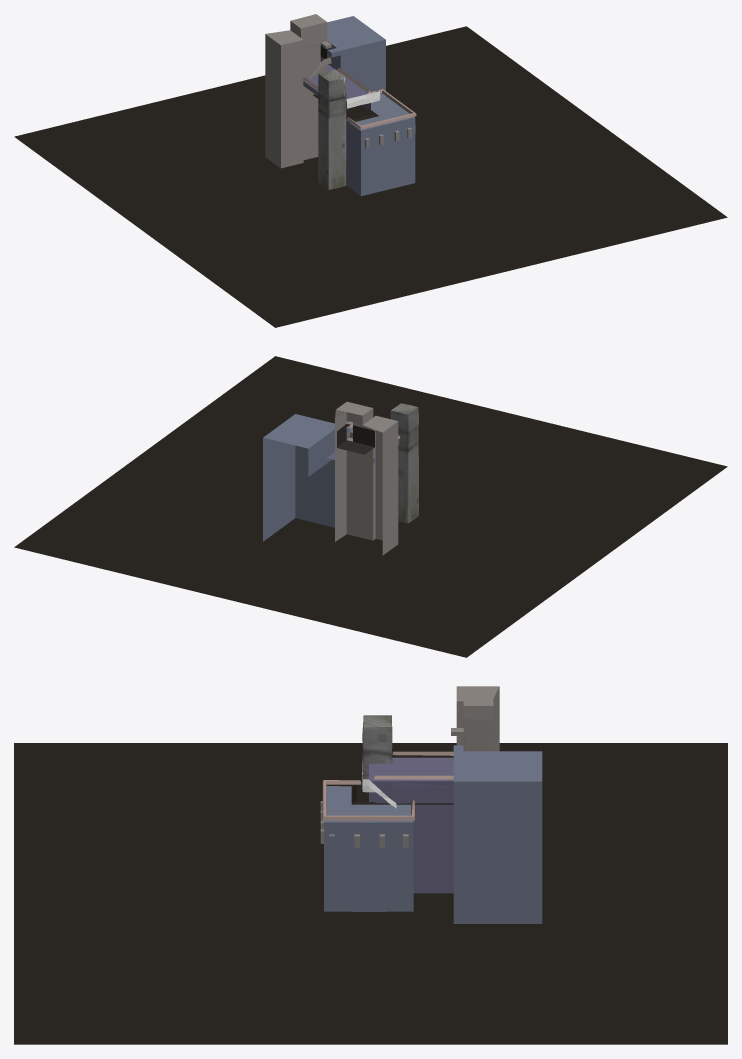
The model's file is rooftop-degenerate.glb.
The picture shows the model from 3 angles, top to bottom: view 1: azimuth 30°, elevation 25°; view 2: azimuth 150°, elevation 25°; view 3: azimuth 270°, elevation 25°; orthographic projection. The views are drawn at different scales.
Visible parts, largest first — view 1: main_tower; view 2: main_tower; view 3: main_tower.
Boxes of the visible parts, <box> form: main_tower: <box>14,14,727,327</box>; main_tower: <box>14,356,727,657</box>; main_tower: <box>14,686,727,1044</box>.
Bounding box in the file's own units: 100 × 28.03 × 100.
16 materials, 1 textured.
